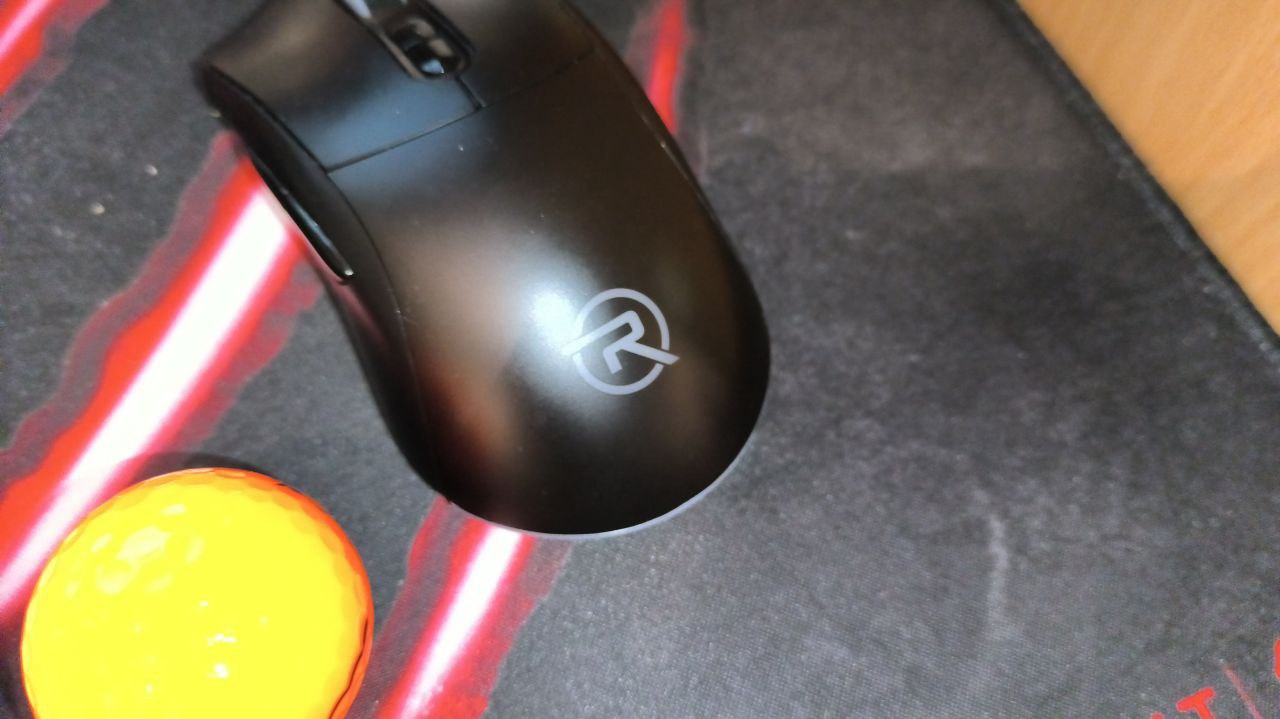orange_ball: (20, 468, 375, 719)
